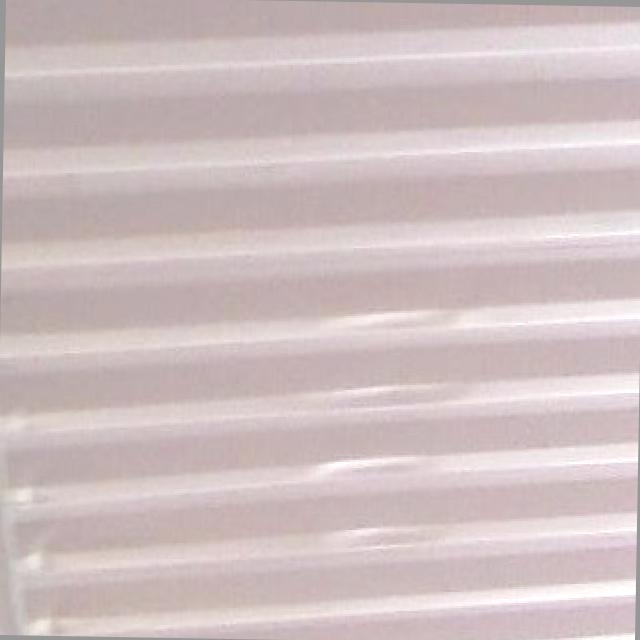Dent: (305, 289, 480, 564)
